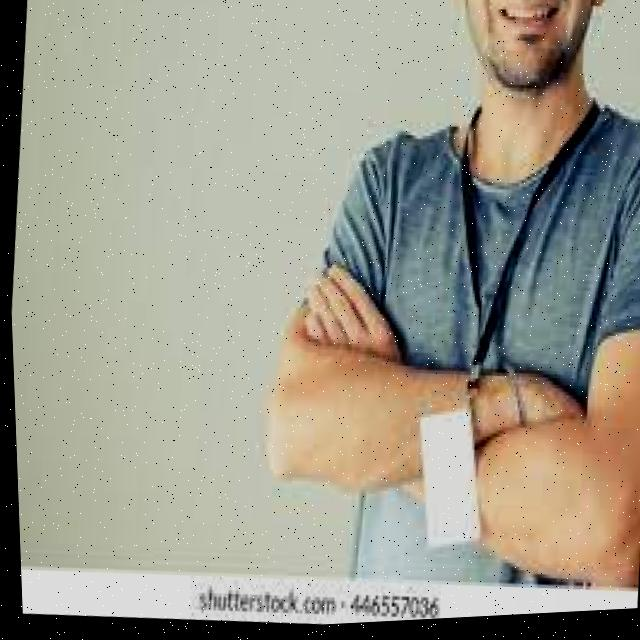id_card: (400, 114, 548, 561)
